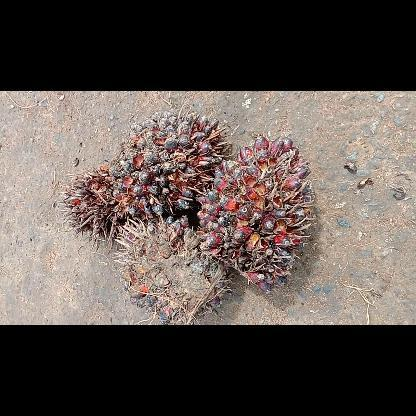TBS abnormal: (198, 135, 314, 291), (109, 104, 233, 218), (115, 216, 232, 324), (58, 166, 142, 254)
